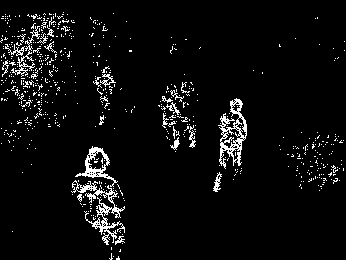person: (69, 146, 128, 260), (218, 96, 250, 199), (158, 81, 182, 155), (182, 78, 203, 152), (95, 64, 117, 130)
